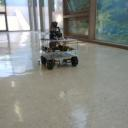cart: (39, 38, 79, 70)
